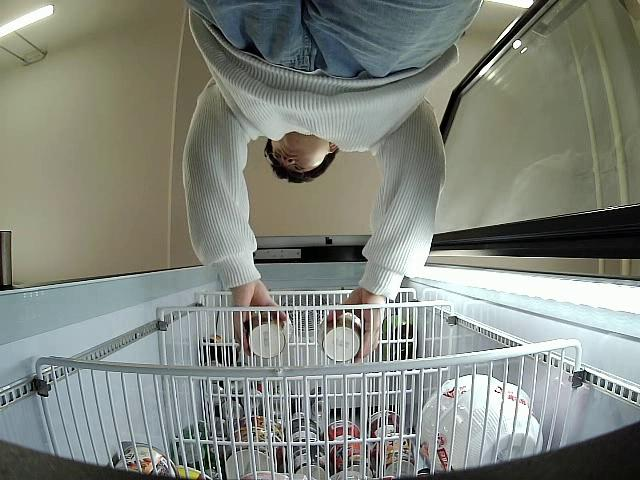00_hand: (232, 287, 286, 356), (333, 290, 385, 361)
04_chapagetti_S: (246, 309, 290, 358), (319, 315, 359, 363)
